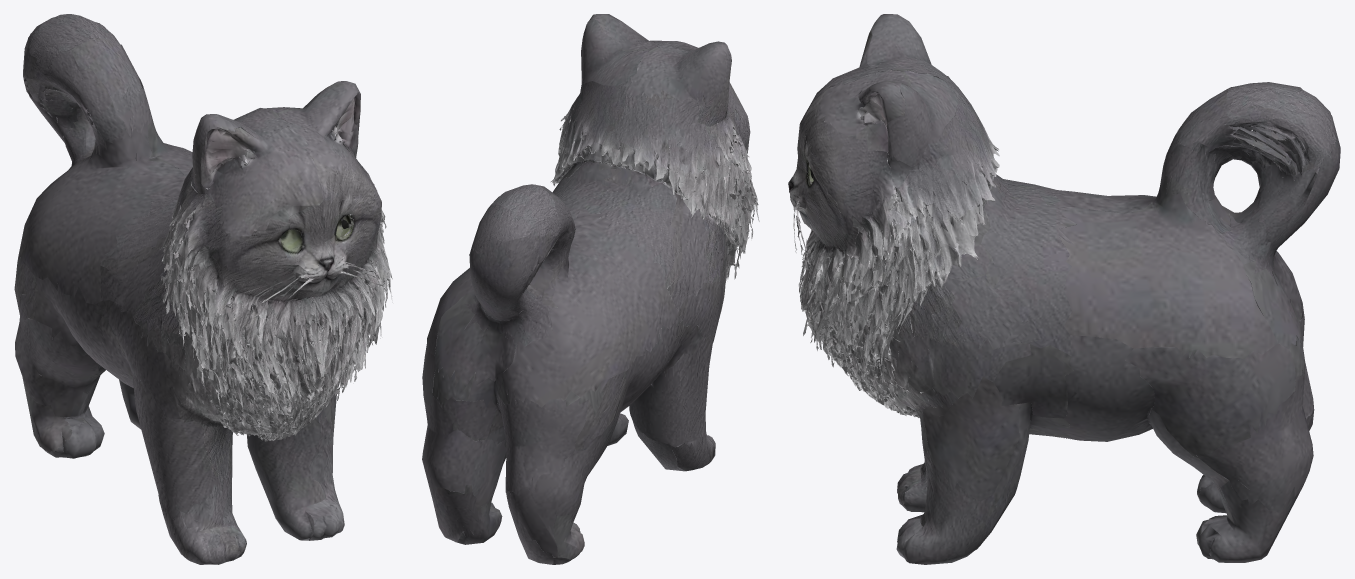
Rendered from meshy-bluelonghair.glb.
3 views of the same model, side by side, from view 1: azimuth 30°, elevation 25°; view 2: azimuth 150°, elevation 25°; view 3: azimuth 270°, elevation 25° (orthographic). The views are drawn at different scales.
Parts seen in each view (by area): view 1: Mesh_0; view 2: Mesh_0; view 3: Mesh_0.
Boxes of the visible parts, x1=… form: Mesh_0: x1=14, y1=14, x2=392, y2=564; Mesh_0: x1=422, y1=14, x2=759, y2=564; Mesh_0: x1=788, y1=14, x2=1340, y2=564.
Bounding box in the file's own units: 0.8521 × 1.77 × 1.85.
1 material, 1 textured.
